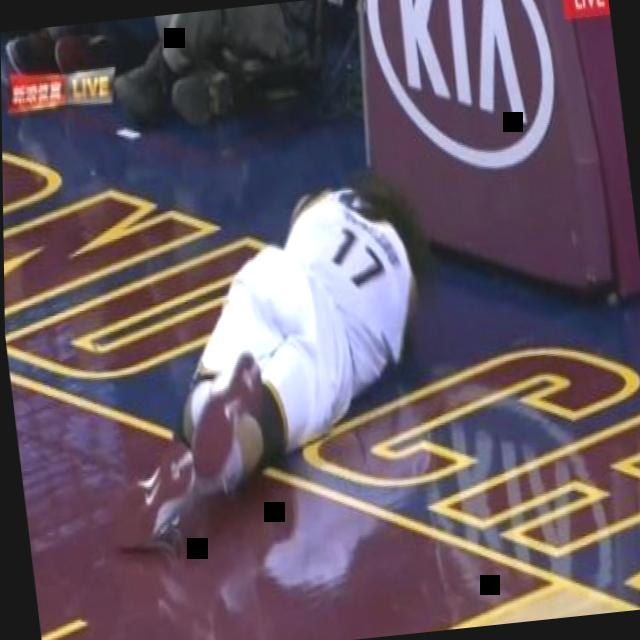Fall-Detected: (75, 130, 450, 582)
